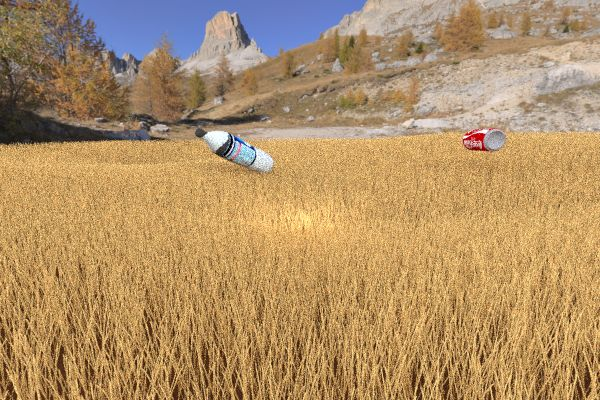bottle: (196, 128, 275, 174)
can: (510, 123, 575, 151), (217, 123, 260, 162)
